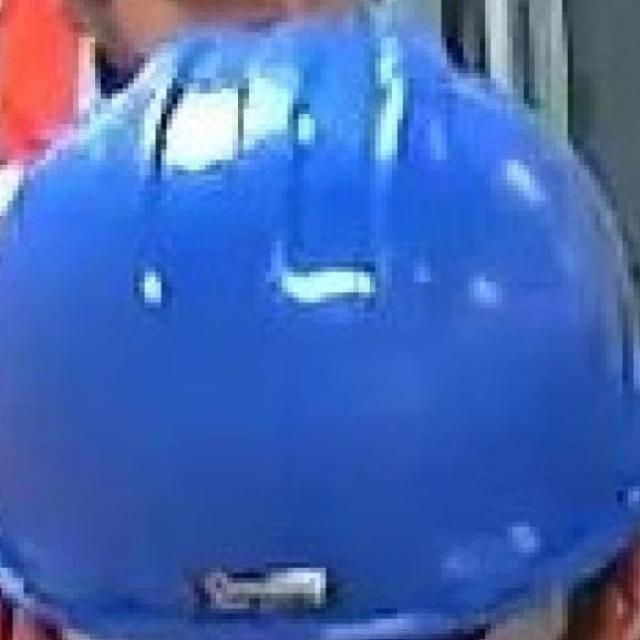blue helmet: (1, 13, 640, 640)
